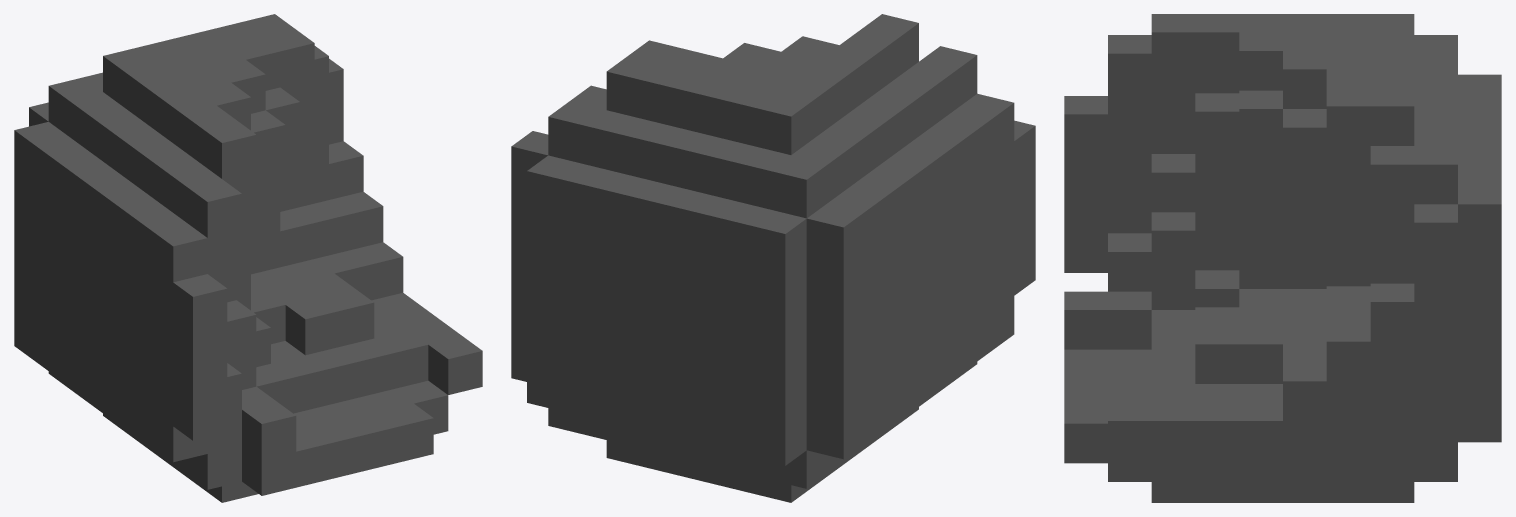
File: alien_egg3.obj
3 renders of one model, left to right at view 1: azimuth 30°, elevation 25°; view 2: azimuth 150°, elevation 25°; view 3: azimuth 270°, elevation 25°, orthographic. The views are drawn at different scales.
Size of the model in its own units: 9 by 10 by 10.
